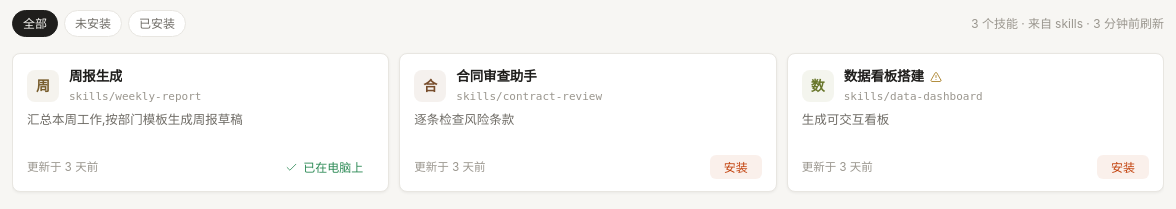
Test case: v7.5:商店认得出'这台电脑上已经有了'(docs/v7.5-共识.md) › 筛选器换同一把尺子(Q42-A) › 本机有本体、无记账的技能落进「已安装」,不落进「未安装」
What coordinates should you click on to do the following:
click the button "已安装"
I would click on:
 (157, 24)
Its box is [128,10,186,37].
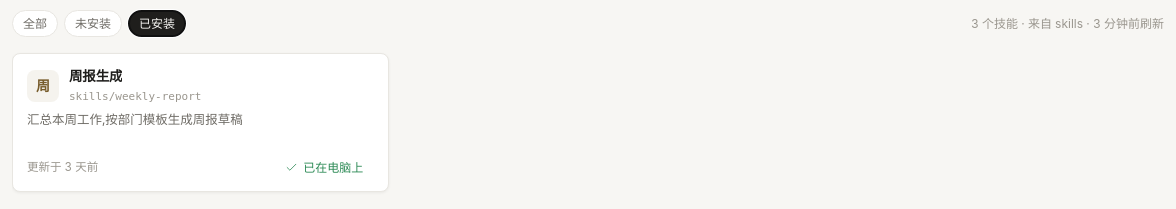
Expected: the text "skills/weekly-report" is shown, [69,90,202,103]
What coordinates should you click on to do the following:
click the button "未安装"
I would click on:
 (93, 24)
Its box is [64,10,122,37].
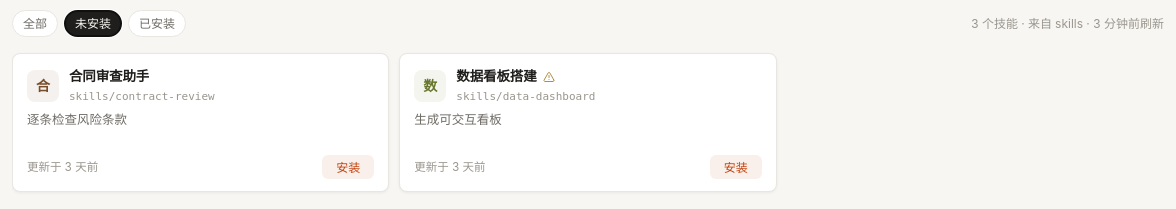
Expected: the button "skills/weekly-report" is gone
